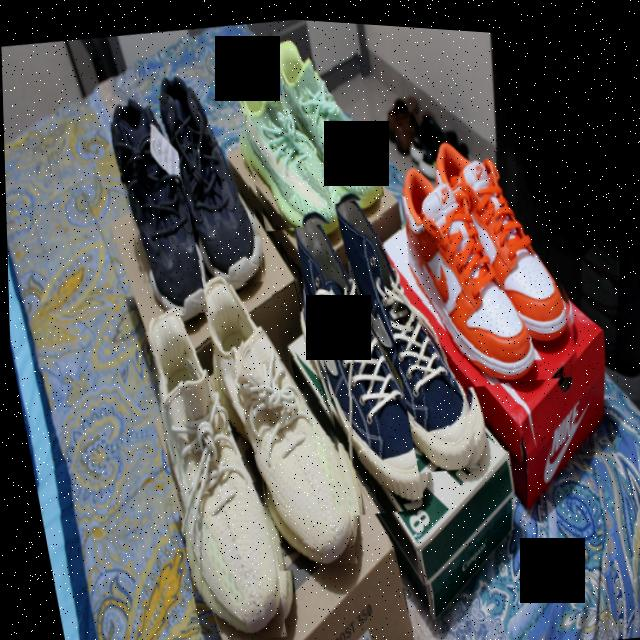shoe: (391, 118, 587, 392), (140, 301, 296, 640), (202, 278, 361, 576), (341, 196, 490, 476), (286, 225, 423, 518), (159, 78, 266, 289), (107, 98, 207, 321), (271, 31, 384, 208), (229, 72, 335, 233)
